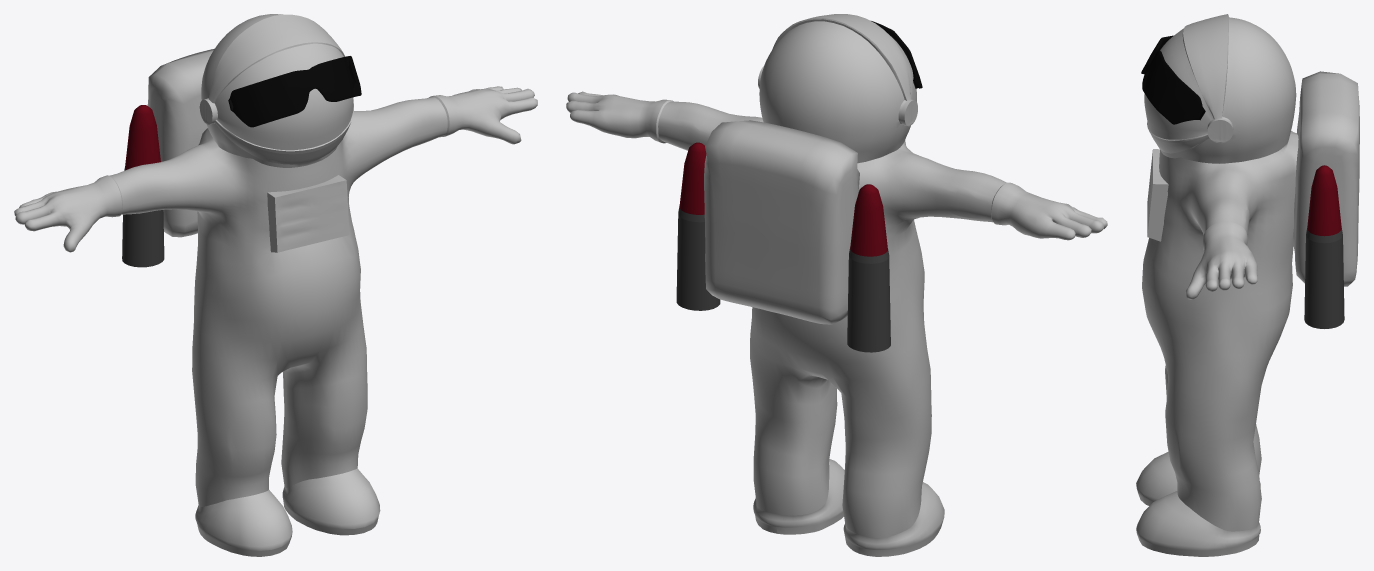
File: AstroCrewZeroThree.fbx
3 views of the same model, side by side, from view 1: azimuth 30°, elevation 25°; view 2: azimuth 150°, elevation 25°; view 3: azimuth 270°, elevation 25° (orthographic). The views are drawn at different scales.
Parts seen in each view (by area): view 1: Astr01LowPoly2, Astr01LowPoly6, Astr01LowPoly1, Astr01LowPoly5, Astr01LowPoly, Astr01LowPoly3, SightingGlasses, Astr01LowPoly4, TurbineThrusters2; view 2: Astr01LowPoly2, Astr01LowPoly3, Astr01LowPoly1, TurbineThrusters2, Astr01LowPoly5, Astr01LowPoly6; view 3: Astr01LowPoly2, Astr01LowPoly1, Astr01LowPoly3, Astr01LowPoly6, TurbineThrusters2, Astr01LowPoly5, SightingGlasses, Astr01LowPoly, Astr01LowPoly4.
Part boxes in pixels (<box>): Astr01LowPoly2: <box>109,97,447,507</box>; Astr01LowPoly6: <box>195,468,380,556</box>; Astr01LowPoly1: <box>199,14,353,167</box>; Astr01LowPoly5: <box>14,86,537,252</box>; Astr01LowPoly: <box>214,43,353,150</box>; Astr01LowPoly3: <box>147,48,214,237</box>; SightingGlasses: <box>228,56,361,127</box>; Astr01LowPoly4: <box>267,175,349,252</box>; TurbineThrusters2: <box>122,105,164,267</box>; Astr01LowPoly2: <box>658,101,1007,537</box>; Astr01LowPoly3: <box>704,120,859,324</box>; Astr01LowPoly1: <box>758,14,917,163</box>; TurbineThrusters2: <box>676,142,890,352</box>; Astr01LowPoly5: <box>566,91,1107,240</box>; Astr01LowPoly6: <box>753,459,944,556</box>; Astr01LowPoly2: <box>1142,131,1298,531</box>; Astr01LowPoly1: <box>1147,14,1296,163</box>; Astr01LowPoly3: <box>1292,71,1359,286</box>; Astr01LowPoly6: <box>1136,451,1260,556</box>; TurbineThrusters2: <box>1304,165,1344,328</box>; Astr01LowPoly5: <box>1185,221,1257,299</box>; SightingGlasses: <box>1141,35,1205,124</box>; Astr01LowPoly: <box>1144,28,1213,139</box>; Astr01LowPoly4: <box>1147,149,1168,241</box>.
Size of the model in its own units: 7.93 by 7.28 by 2.96.
